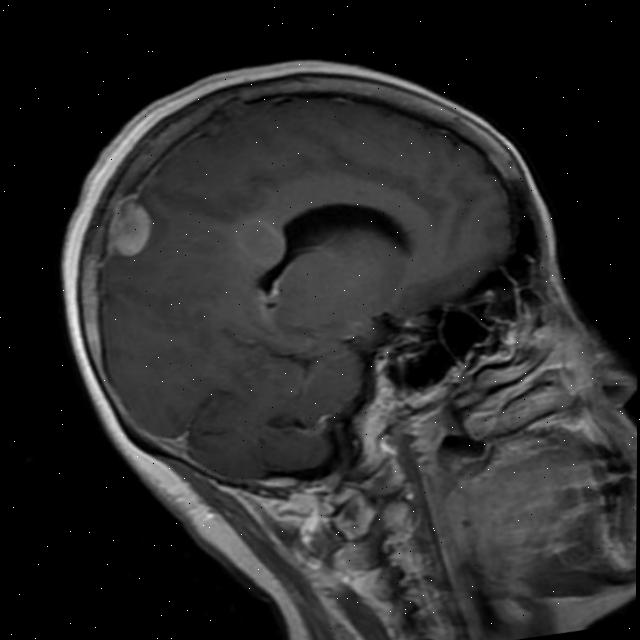Glioma: (99, 191, 159, 263), (231, 209, 290, 272)
